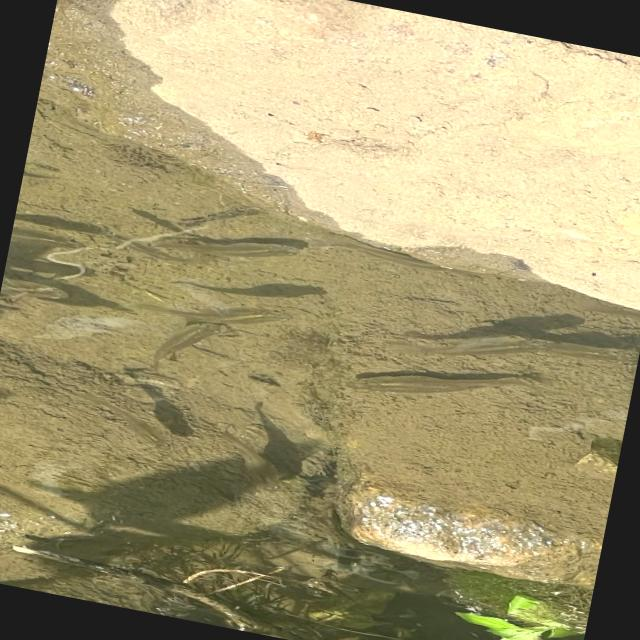Sivrisinek Baligi: (342, 344, 538, 426), (384, 308, 532, 379), (146, 278, 296, 340), (188, 217, 310, 276), (138, 308, 226, 380)
